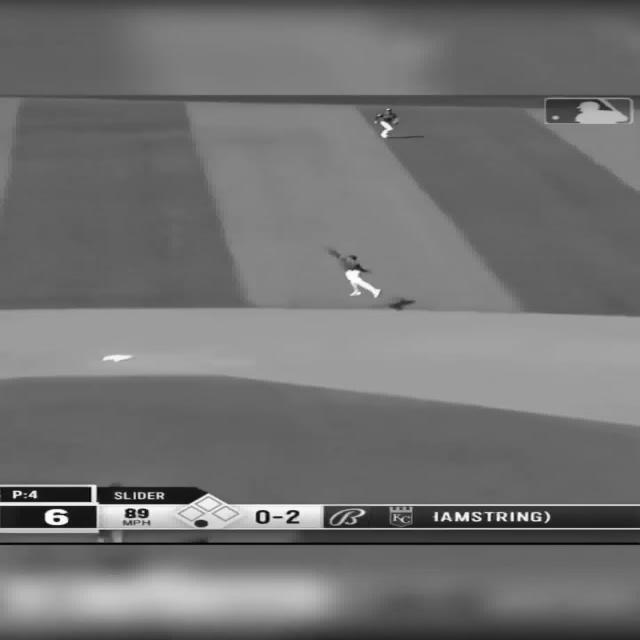shoe: (372, 288, 381, 298), (348, 291, 362, 296)
